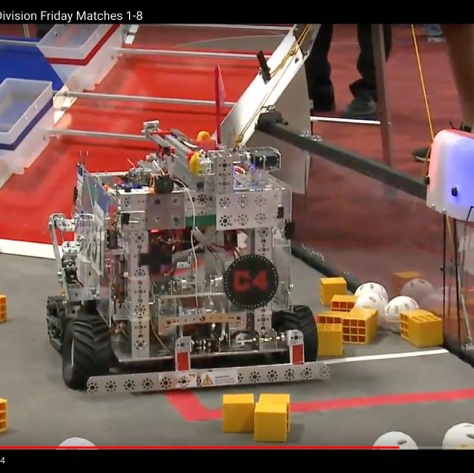robot: (43, 117, 336, 398)
